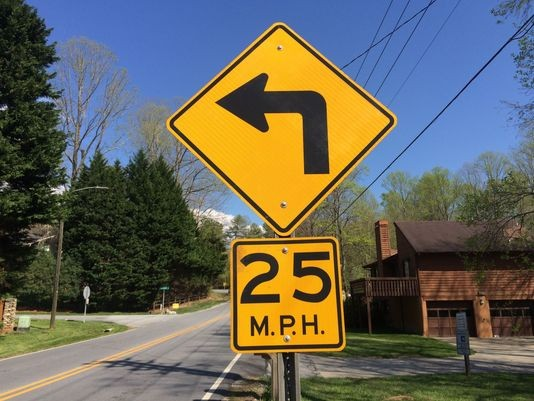left: (165, 19, 399, 240)
